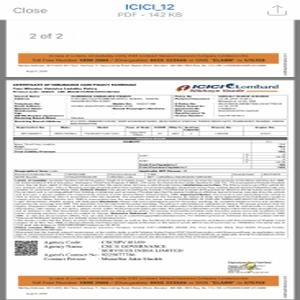image: (175, 80, 282, 96)
table: (11, 136, 287, 172), (13, 120, 288, 136)
text: (14, 172, 287, 236), (11, 93, 284, 120), (41, 238, 186, 262), (8, 80, 138, 96)
